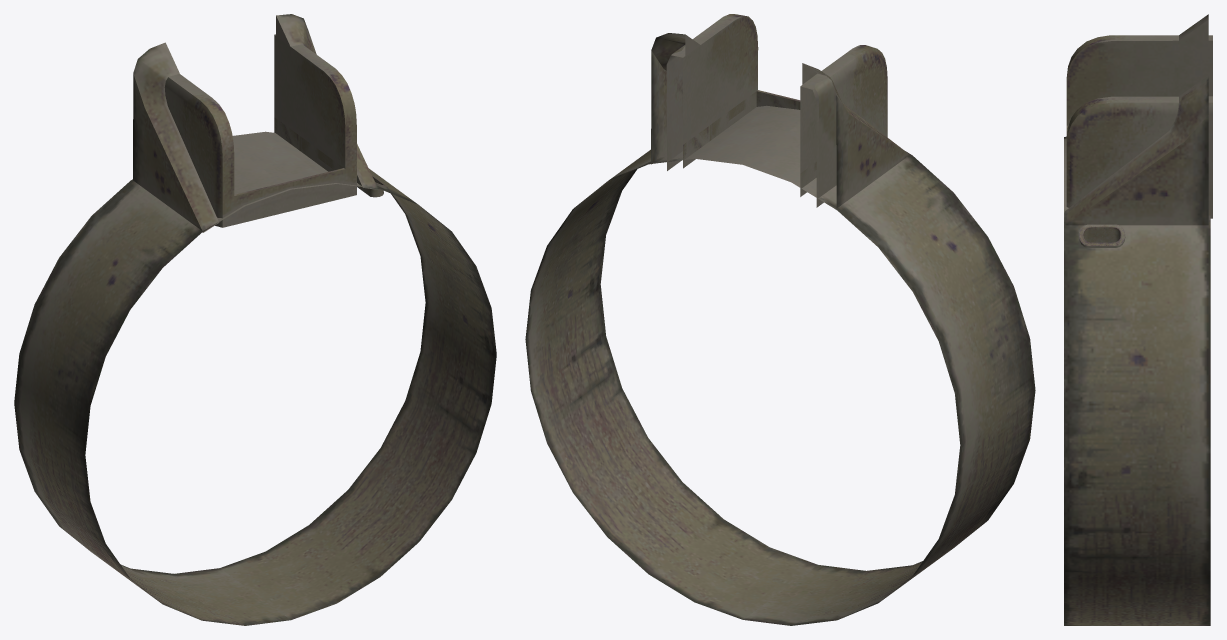
File: Turret_01.glb
3 views of the same model, side by side, from view 1: azimuth 30°, elevation 25°; view 2: azimuth 150°, elevation 25°; view 3: azimuth 270°, elevation 25° (orthographic). The views are drawn at different scales.
Parts seen in each view (by area): view 1: set_0_group_0; view 2: set_0_group_0; view 3: set_0_group_0.
Boxes of the visible parts, <box> form: set_0_group_0: <box>14,14,496,625</box>; set_0_group_0: <box>525,14,1035,625</box>; set_0_group_0: <box>1064,14,1212,625</box>.
Size of the model in its own units: 1.82 by 2.28 by 0.5529.
Materials: 1 (1 with a texture image).
